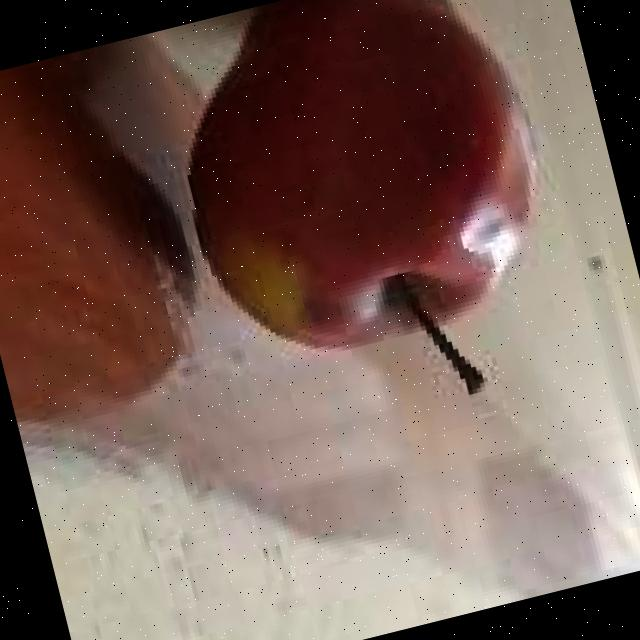Good_Apple 10-21 days: (188, 0, 533, 393)
